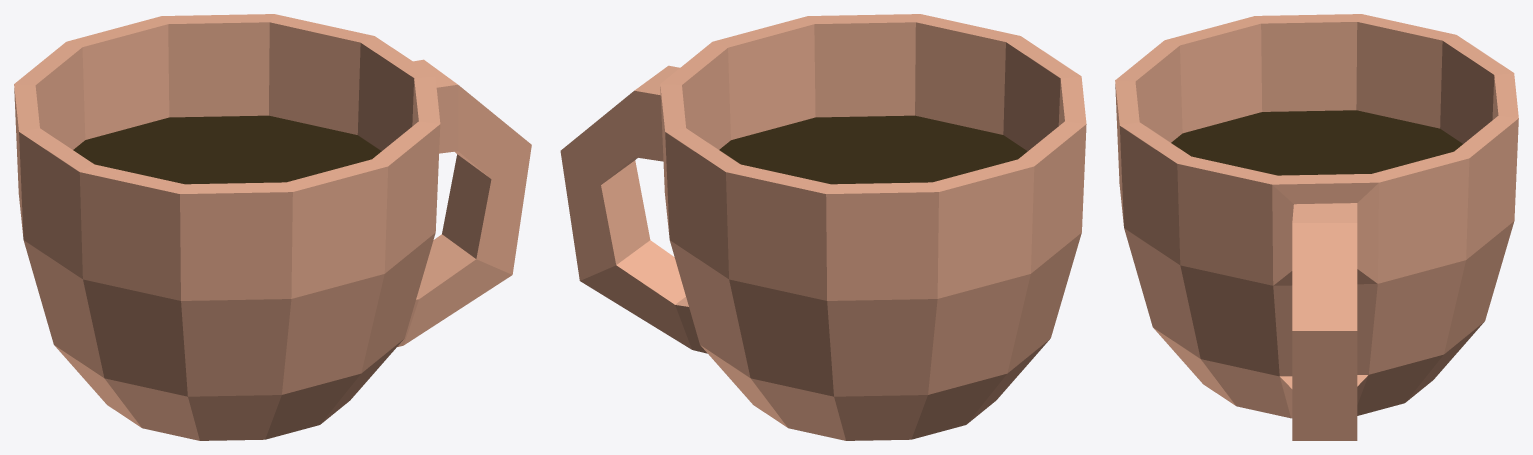
File: CoffeeCup.glb
The picture shows the model from 3 angles, left to right: view 1: azimuth 30°, elevation 25°; view 2: azimuth 150°, elevation 25°; view 3: azimuth 270°, elevation 25°; orthographic projection. The views are drawn at different scales.
Visible parts, largest first — view 1: CoffeJup, Circle.011; view 2: CoffeJup, Circle.011; view 3: CoffeJup, Circle.011.
Part boxes in pixels (<box>): CoffeJup: <box>14,14,531,440</box>; Circle.011: <box>73,115,381,184</box>; CoffeJup: <box>560,14,1086,440</box>; Circle.011: <box>719,115,1027,184</box>; CoffeJup: <box>1115,14,1518,440</box>; Circle.011: <box>1171,110,1462,175</box>.
Bounding box in the file's own units: 0.1928 × 0.1105 × 0.1494.
